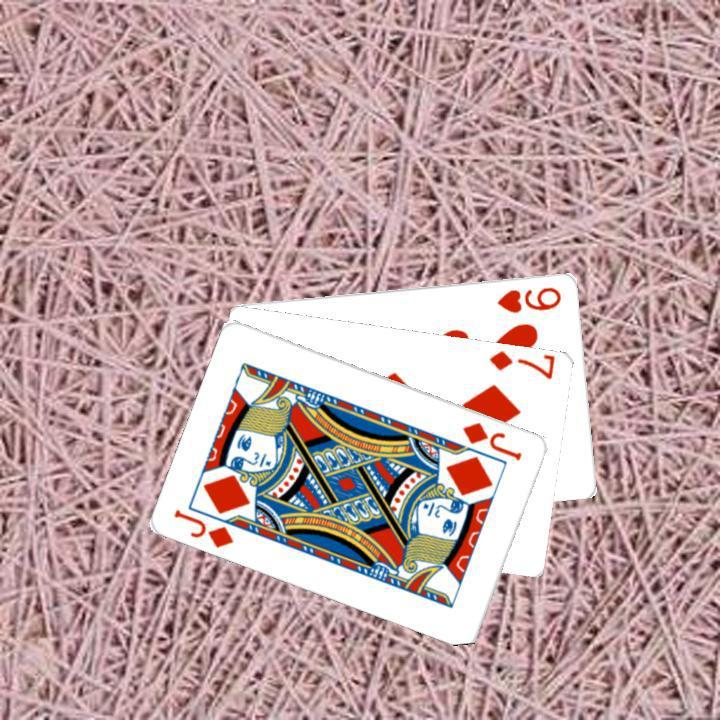7: (485, 346, 557, 381)
9: (493, 281, 564, 314)
J: (458, 417, 525, 463), (170, 504, 236, 550)
